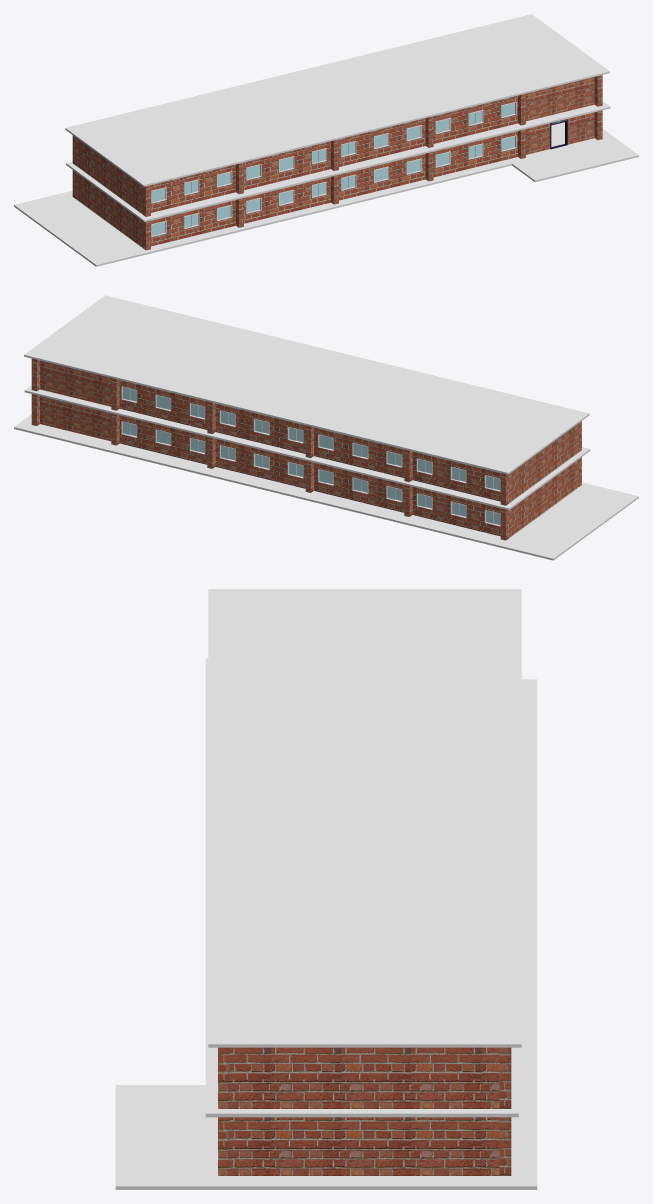
Rendered from school.glb.
3 views of the same model, one above another, from view 1: azimuth 30°, elevation 25°; view 2: azimuth 150°, elevation 25°; view 3: azimuth 270°, elevation 25° (orthographic). The views are drawn at different scales.
Parts seen in each view (by area): view 1: Floor3, polySurface13653, Floor1, Wall_8, Windows_1, Wall_5, Piller_3, polySurface13654; view 2: Floor3, polySurface13653, Floor1, Wall_6, Windows_1, Wall_10, Wall_5, Piller_2; view 3: Floor3, Floor1, polySurface13653, Wall_9.
Part boxes in pixels (x1=…): Floor3: x1=65, y1=14, x2=609, y2=186; polySurface13653: x1=66, y1=75, x2=610, y2=222; Floor1: x1=14, y1=122, x2=638, y2=266; Wall_8: x1=151, y1=131, x2=517, y2=246; Windows_1: x1=151, y1=135, x2=516, y2=237; Wall_5: x1=75, y1=172, x2=142, y2=247; Piller_3: x1=143, y1=110, x2=602, y2=250; polySurface13654: x1=526, y1=112, x2=594, y2=154; Floor3: x1=24, y1=295, x2=589, y2=474; polySurface13653: x1=24, y1=358, x2=590, y2=510; Floor1: x1=14, y1=414, x2=638, y2=560; Wall_6: x1=119, y1=415, x2=500, y2=536; Windows_1: x1=121, y1=421, x2=500, y2=526; Wall_10: x1=40, y1=396, x2=111, y2=441; Wall_5: x1=509, y1=459, x2=578, y2=537; Piller_2: x1=31, y1=394, x2=508, y2=540; Floor3: x1=208, y1=589, x2=521, y2=1047; Floor1: x1=115, y1=679, x2=537, y2=1189; polySurface13653: x1=205, y1=658, x2=518, y2=1117; Wall_9: x1=229, y1=1117, x2=499, y2=1175.
Bounding box in the file's own units: 51.21 × 6.59 × 17.98.
22 materials, 2 textured.
